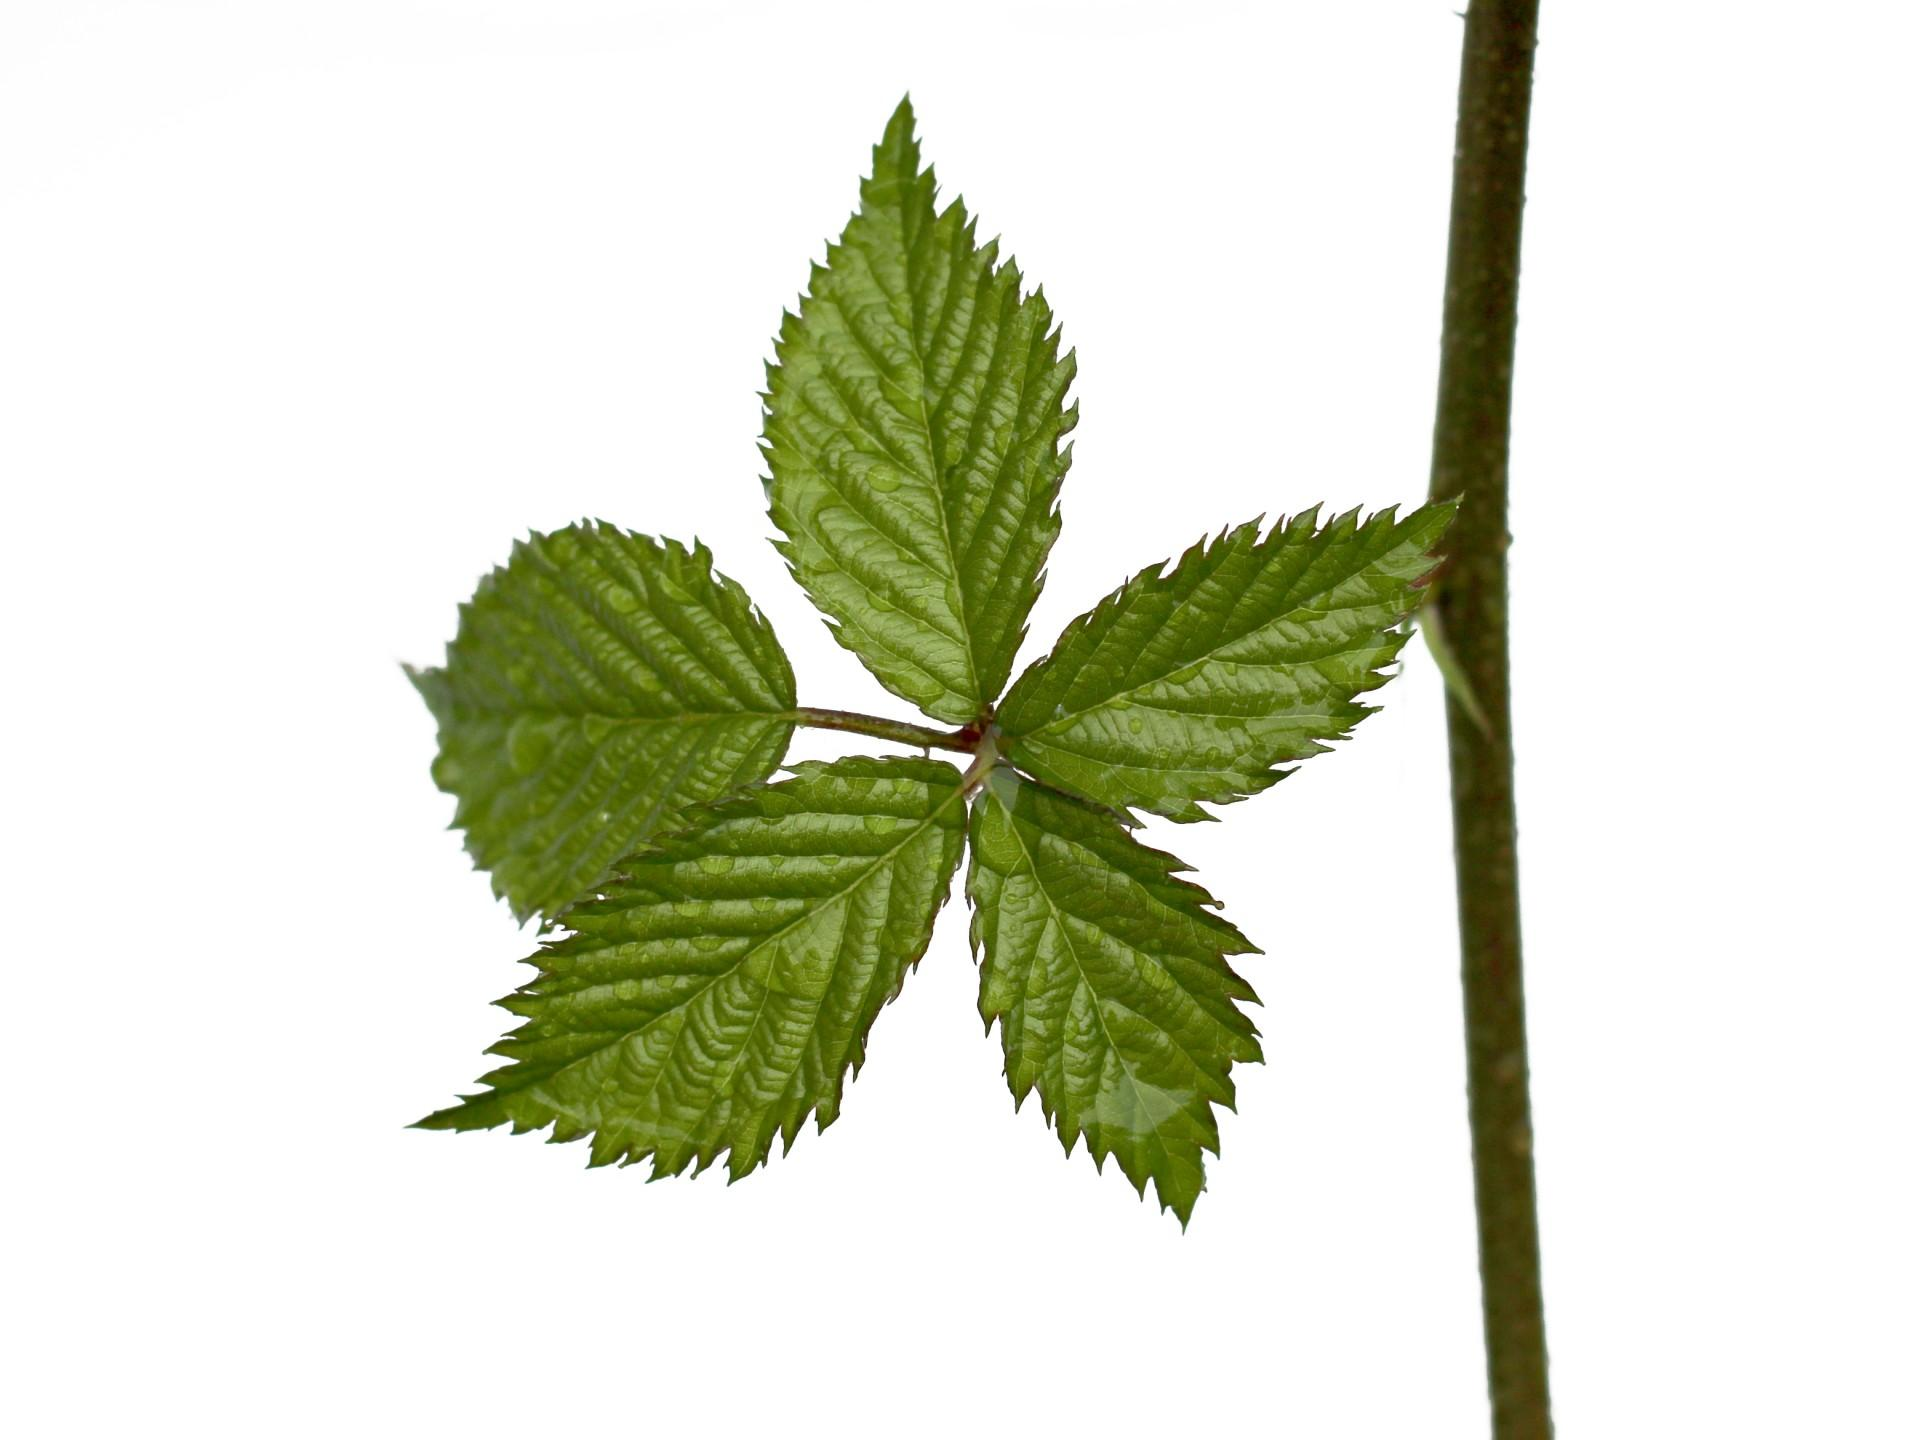Raspberry leaf: (393, 746, 984, 1180), (763, 70, 1093, 729), (978, 490, 1474, 829), (390, 517, 786, 929), (968, 750, 1268, 1227)
